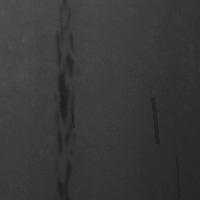inclusion: (51, 1, 80, 176), (51, 154, 74, 197), (150, 95, 159, 145), (174, 154, 180, 200), (69, 107, 75, 129)
